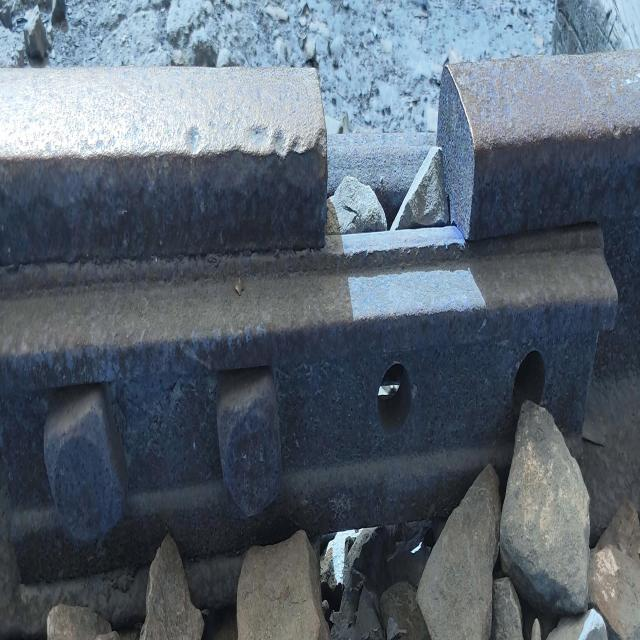Defective Joint: (3, 269, 604, 582)
